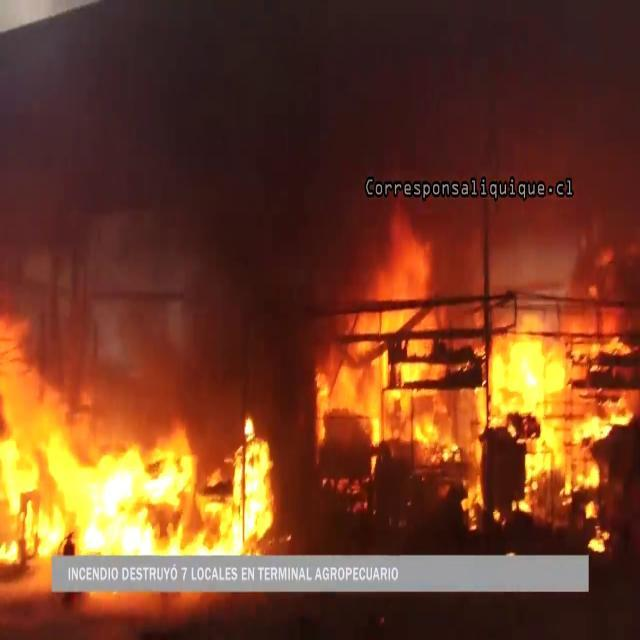Fire: (313, 218, 640, 523), (0, 305, 282, 573)
